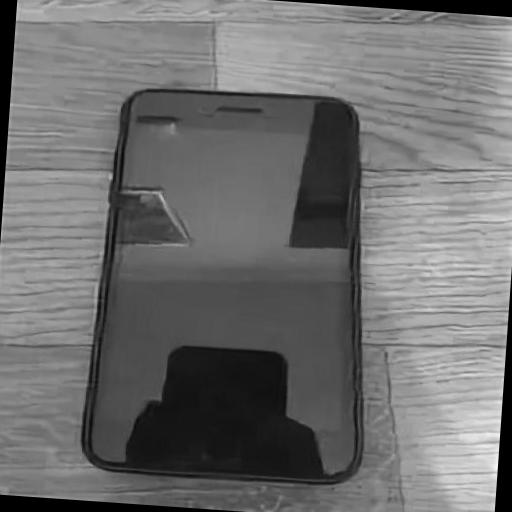phone: (84, 82, 365, 485)
